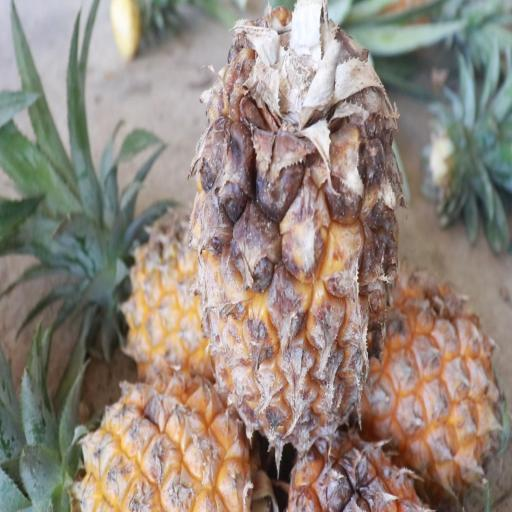Pineapple - v8 v1: (192, 12, 406, 452), (361, 254, 512, 512), (88, 192, 264, 378), (57, 364, 273, 512)
